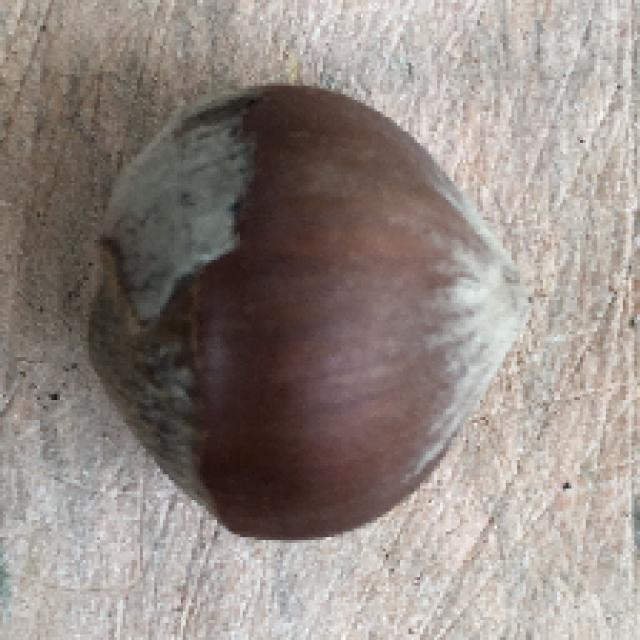damagedHazelnut: (86, 77, 546, 547)
